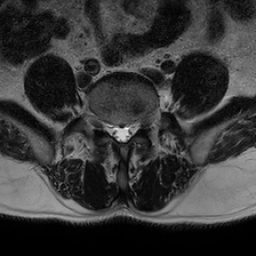CCS_stenosis: (116, 115, 125, 148)
LFS_normal: (134, 110, 144, 138)
LLS_normal: (125, 115, 133, 145)
RFS_normal: (99, 112, 108, 139)
RLS_normal: (108, 114, 116, 144)
